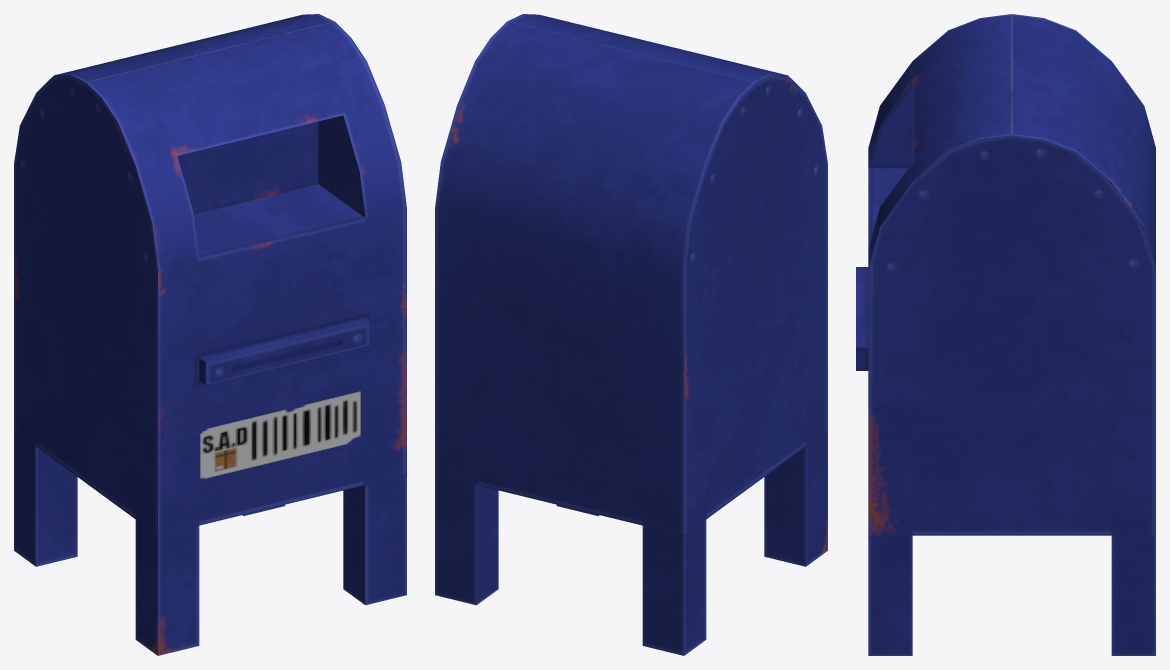
The model's file is Mail.fbx_MailBox.fbx.
3 renders of one model, left to right at view 1: azimuth 30°, elevation 25°; view 2: azimuth 150°, elevation 25°; view 3: azimuth 270°, elevation 25°, orthographic.
Parts seen in each view (by area): view 1: MailBox; view 2: MailBox; view 3: MailBox.
Part boxes in pixels (x1=…): MailBox: x1=14, y1=14, x2=406, y2=655; MailBox: x1=435, y1=14, x2=827, y2=655; MailBox: x1=856, y1=14, x2=1155, y2=655.
Size of the model in its own units: 76.04 by 152 by 79.31.
Materials: 1 (1 with a texture image).
